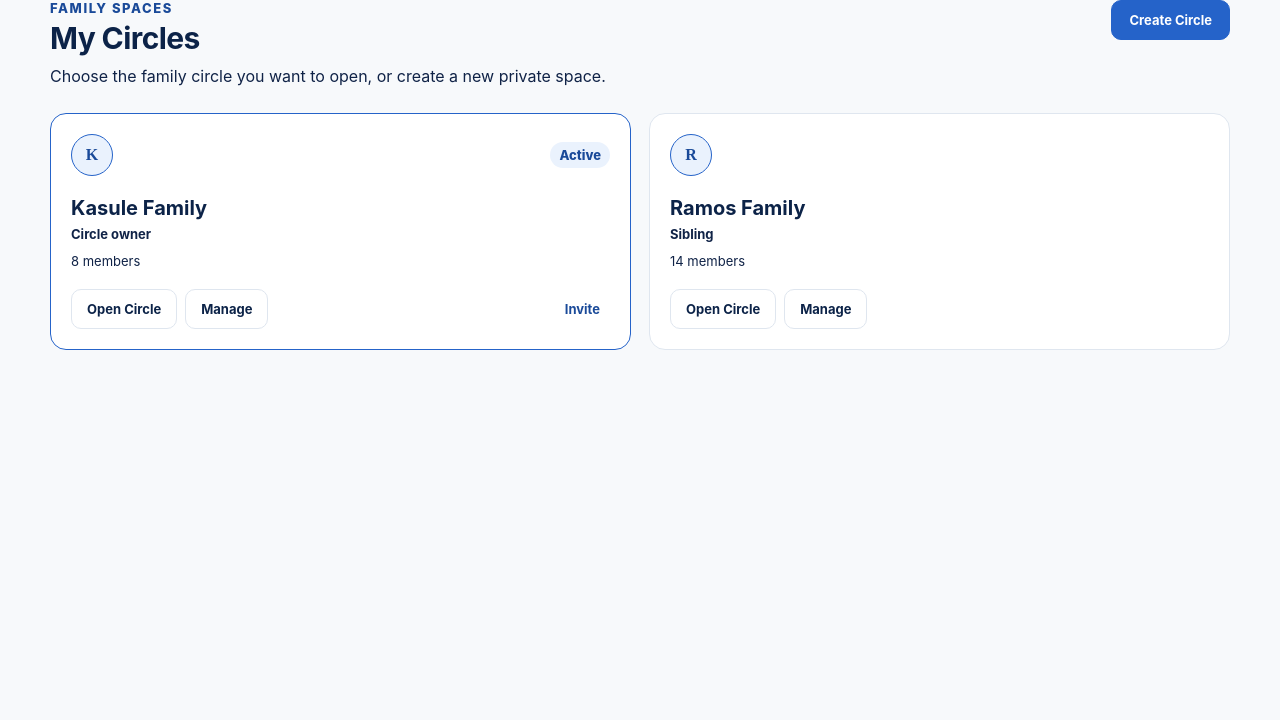
Test: MyCircles › creates through the protected client, closes the dialog, and reloads authoritative Circle cards
Click the button "Create Circle".
click(1171, 20)  # box [1112,0,1230,40]
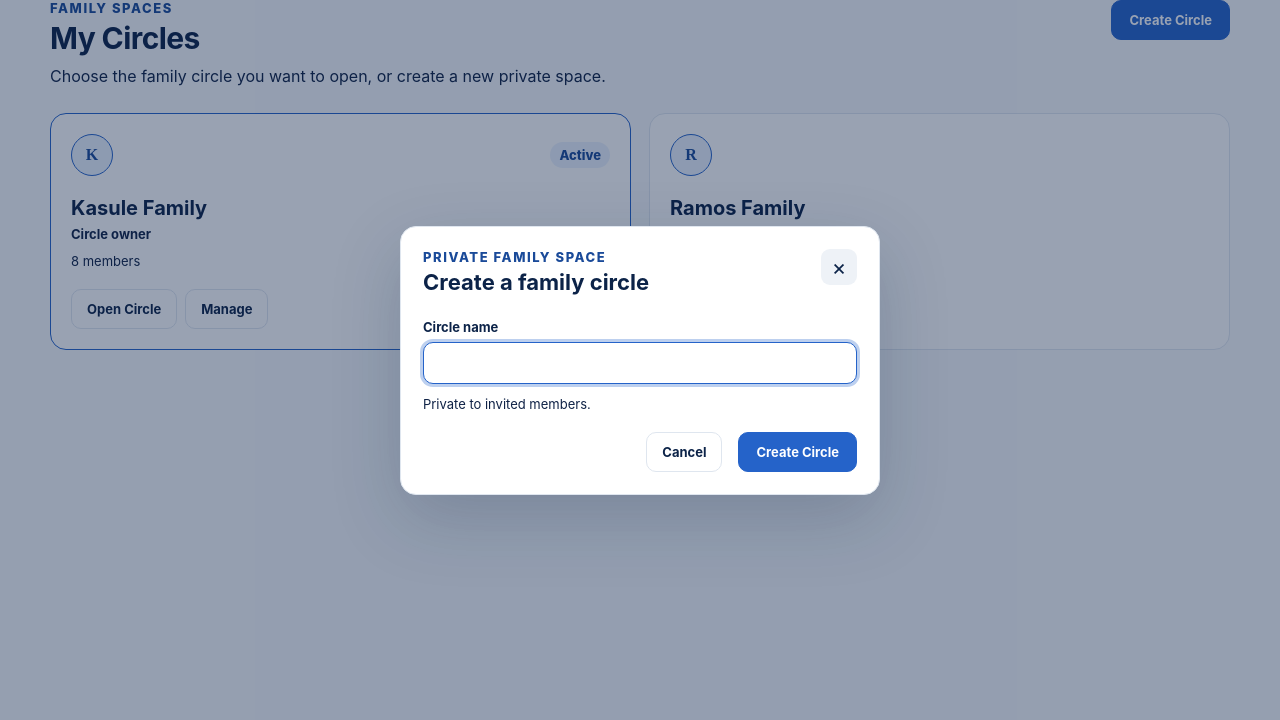
Type "New Family" into the field labelled "Circle name".
click(640, 362); type("New Family")  # box [423,342,857,384]
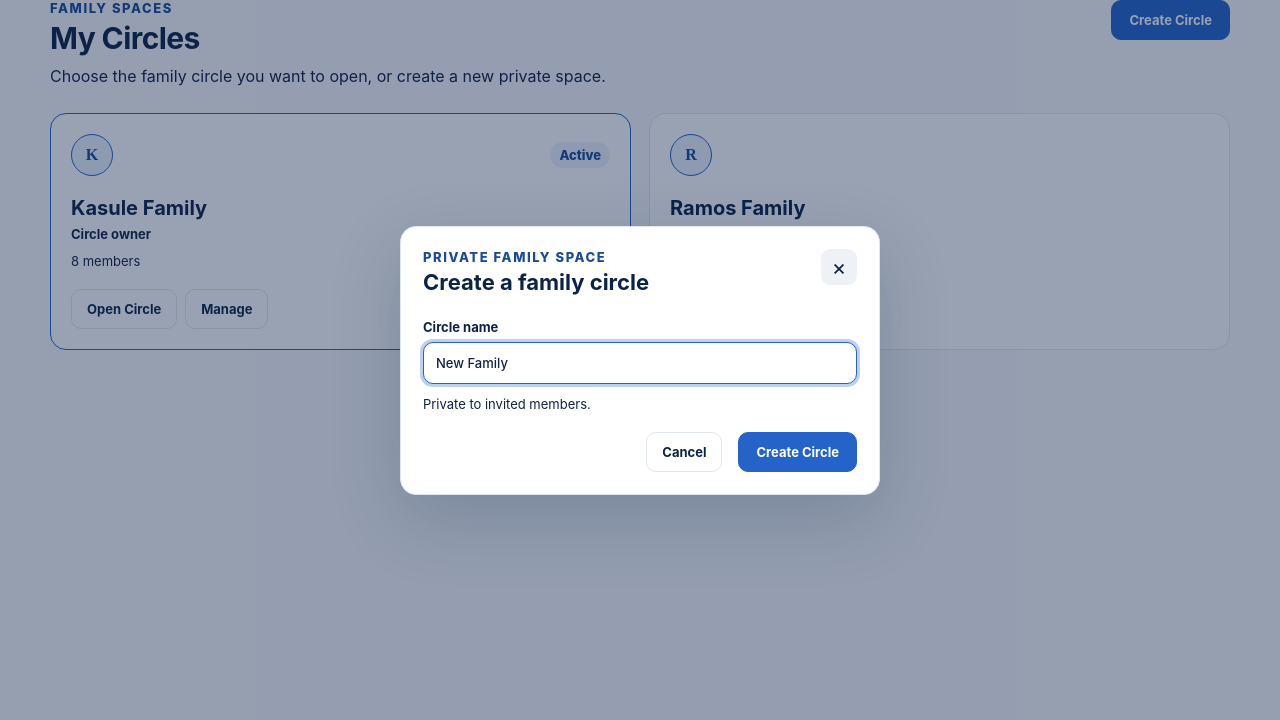
Click the button "Create Circle".
click(798, 452)  # box [738,432,857,472]
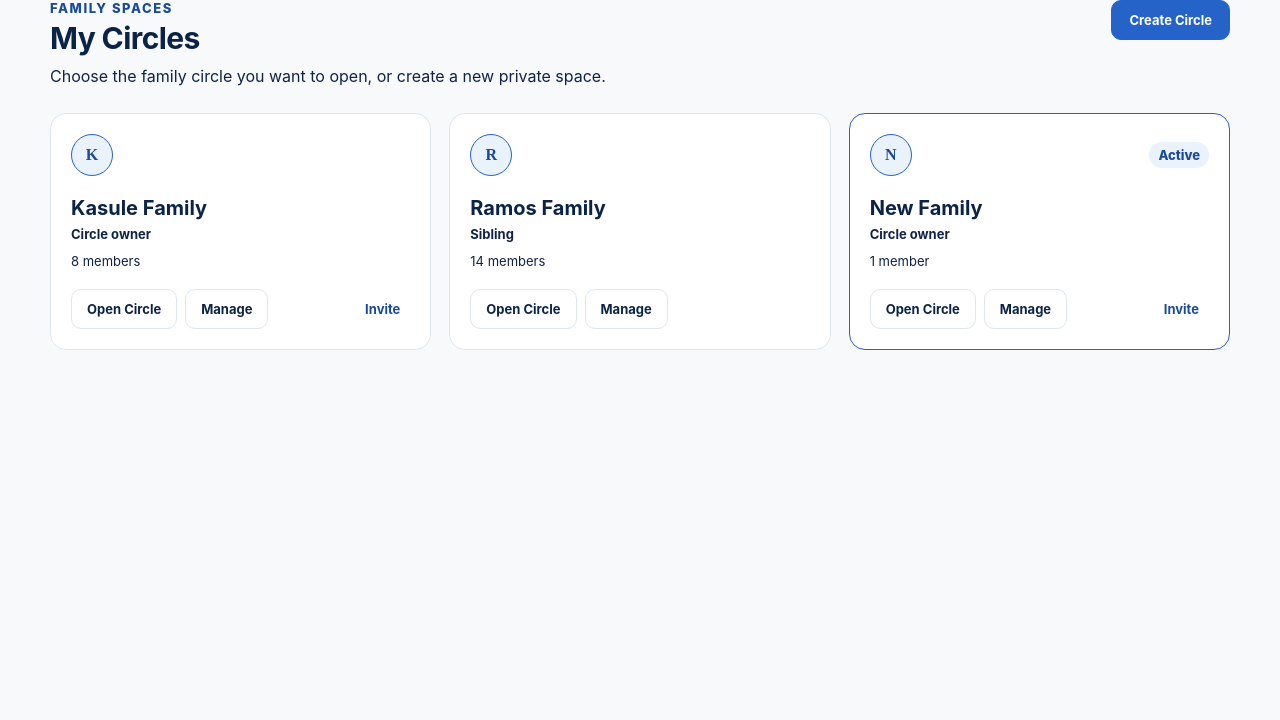
Check: the heading "New Family" is shown, box [870,196,983,220]
Check: the heading "Create a family circle" is gone
